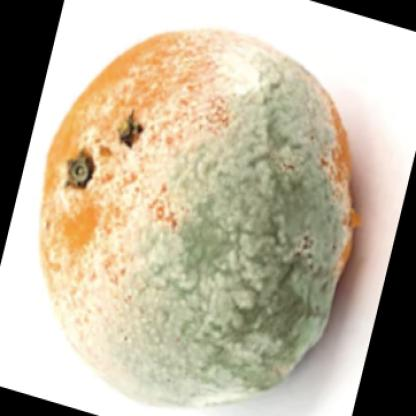rotten: (44, 30, 357, 407)
